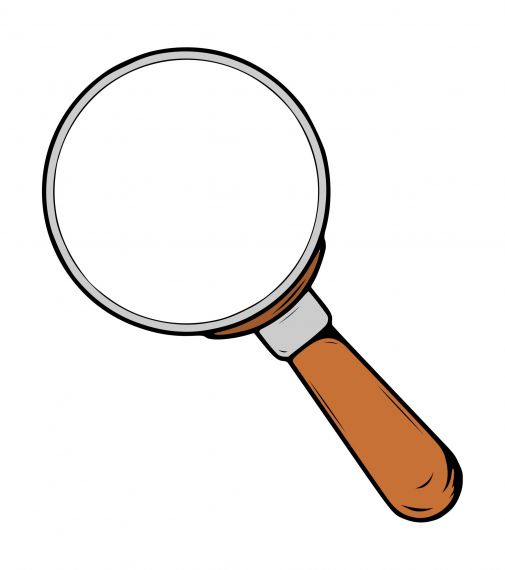magnifying-glass: (38, 42, 345, 366)
